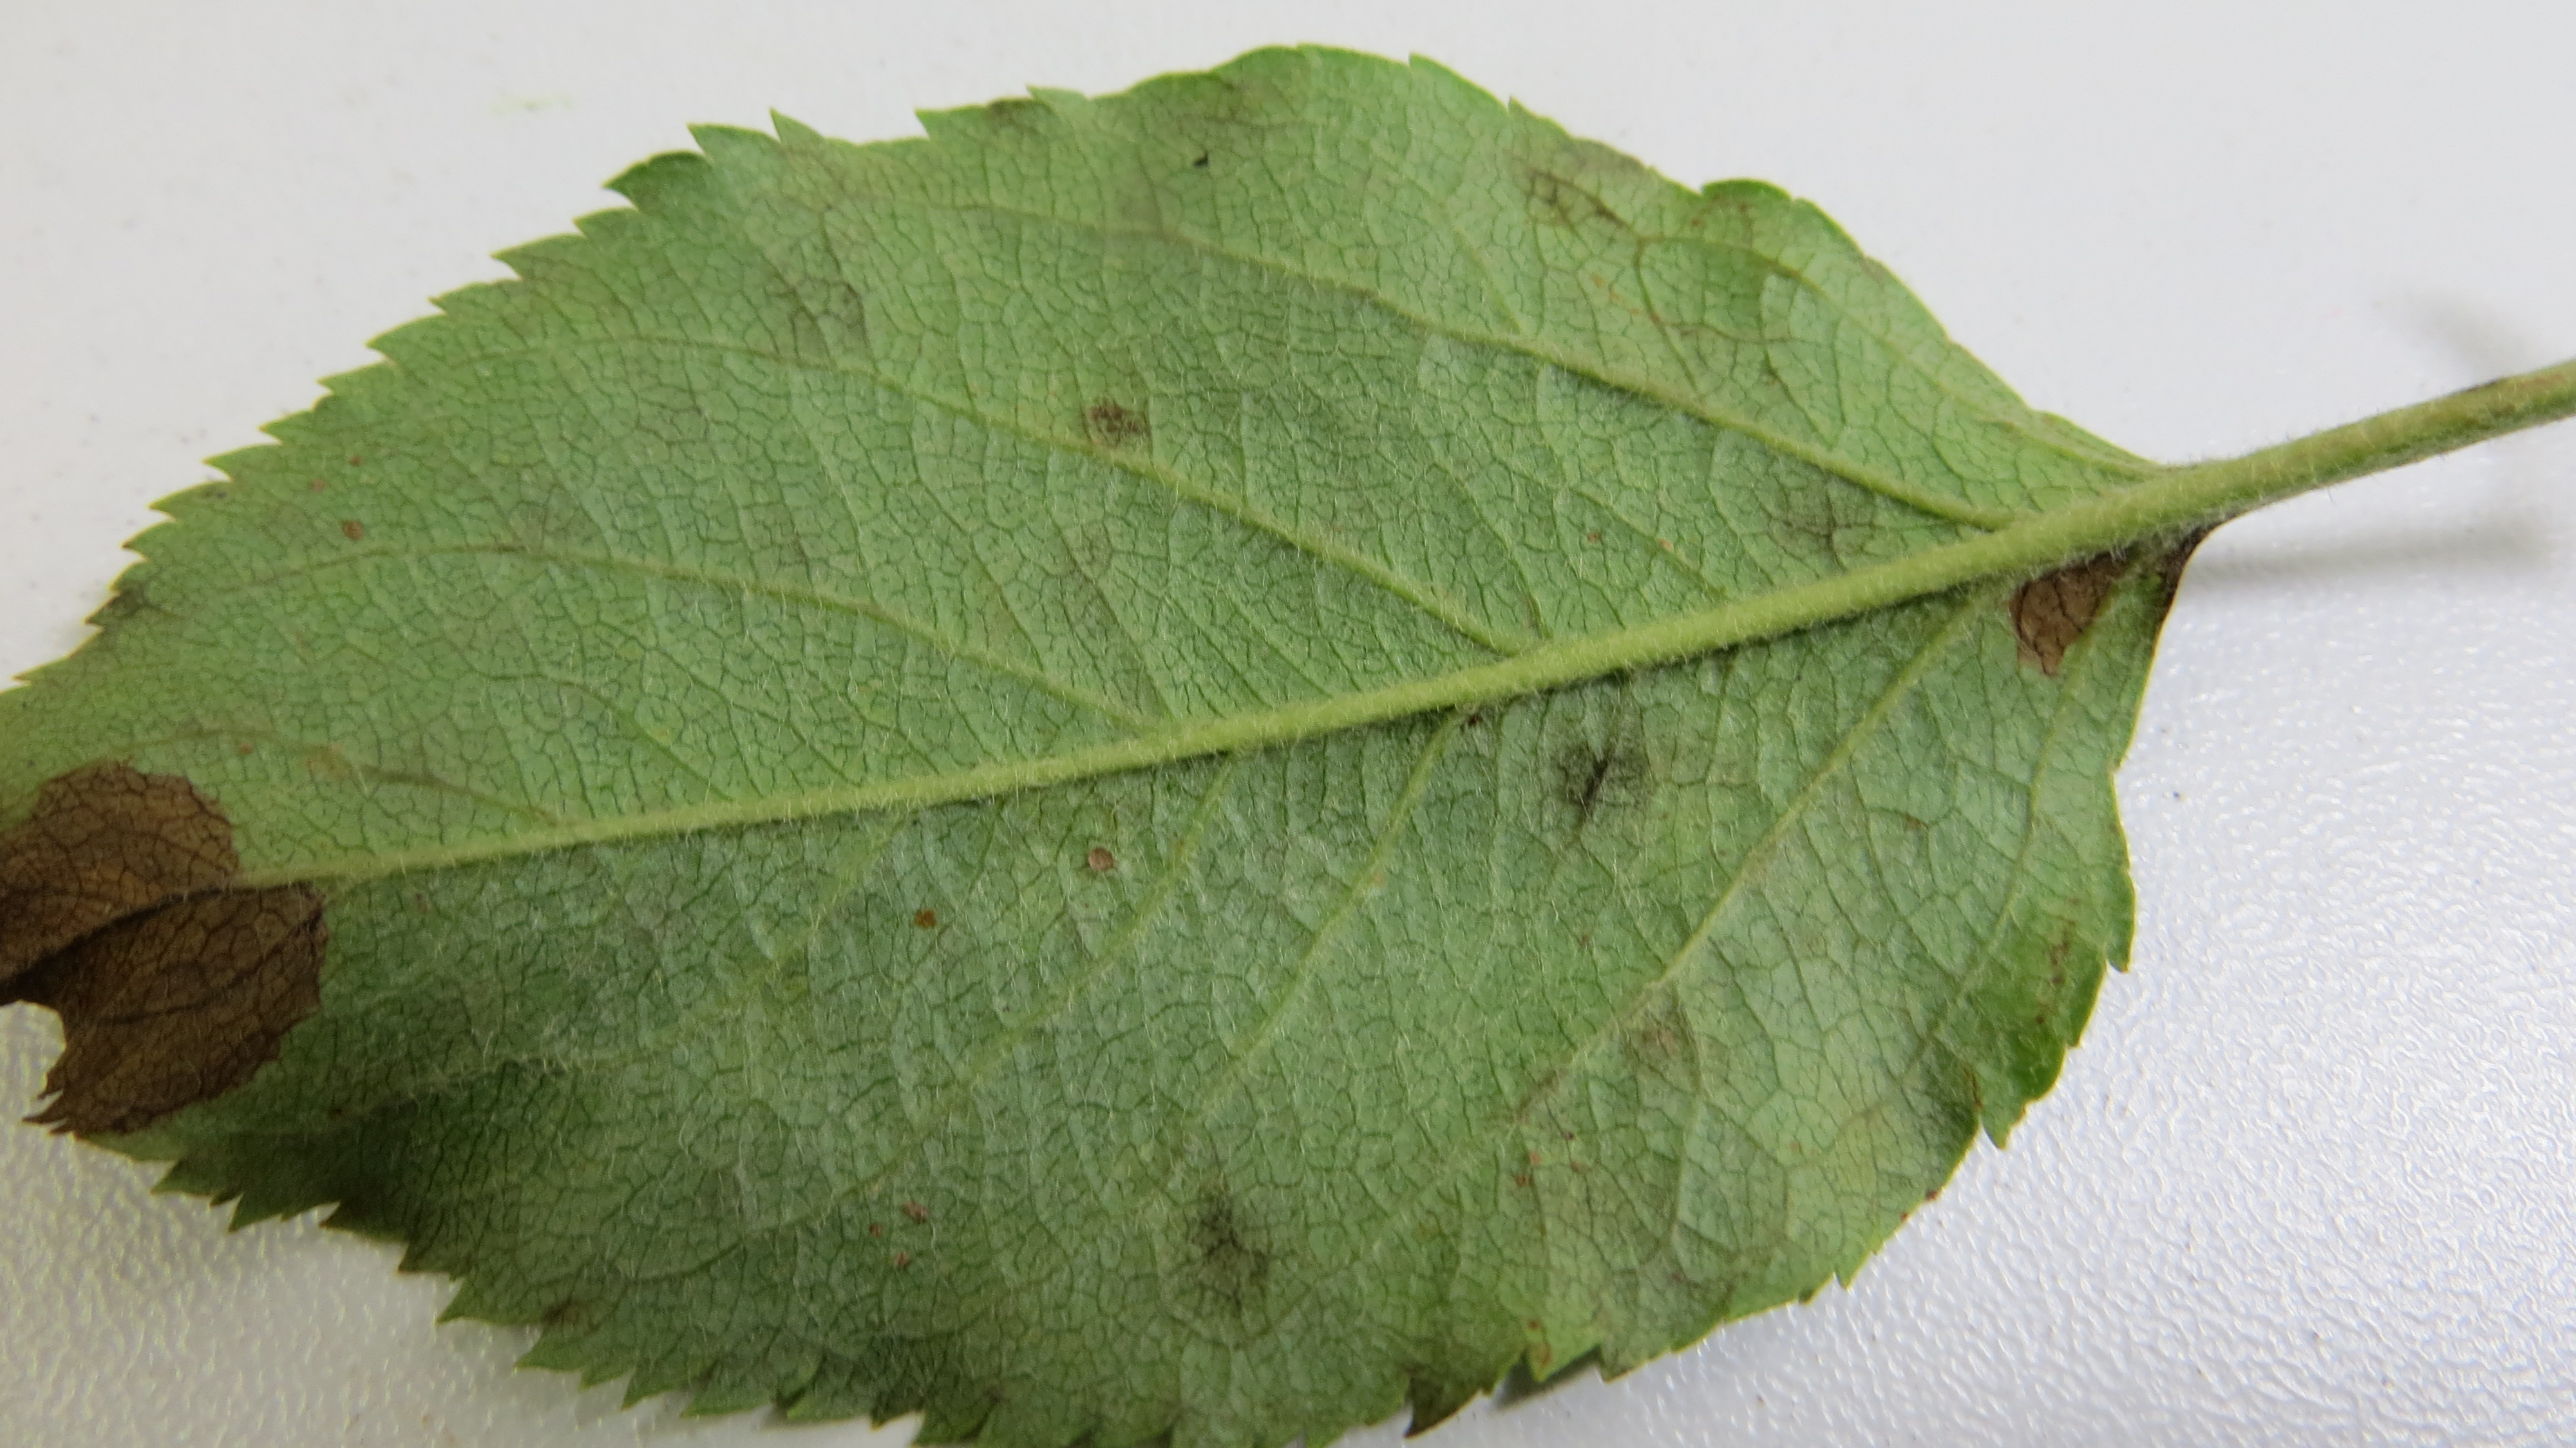sarna: (12, 747, 352, 1168), (1992, 524, 2137, 690), (1518, 126, 1638, 251), (1177, 1172, 1279, 1312), (1534, 713, 1663, 821), (1067, 384, 1161, 473), (1610, 990, 1690, 1074), (1076, 828, 1129, 889)
